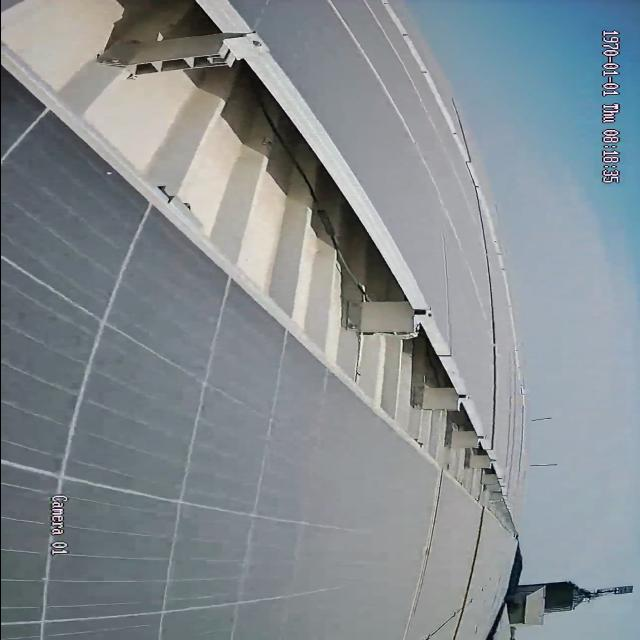outher panel: (0, 0, 522, 540)
